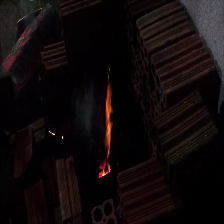fire_h: (98, 81, 112, 177)
fire_l: (48, 130, 55, 136), (60, 134, 64, 139)
